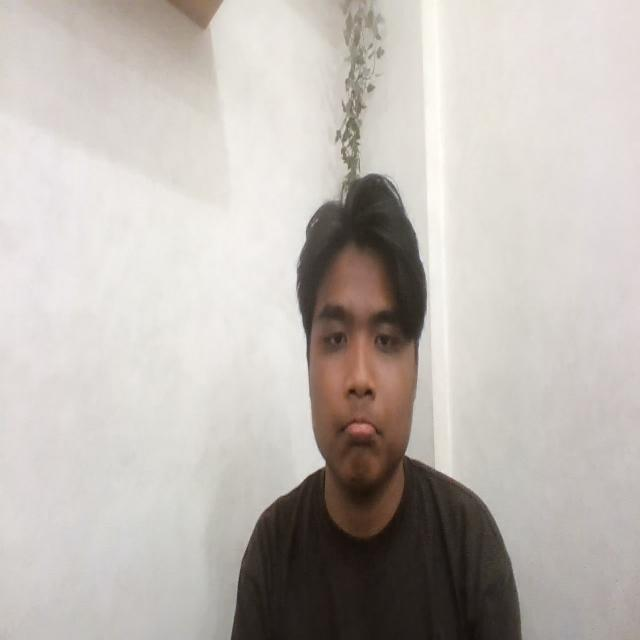sem_oculos: (294, 292, 442, 368)
